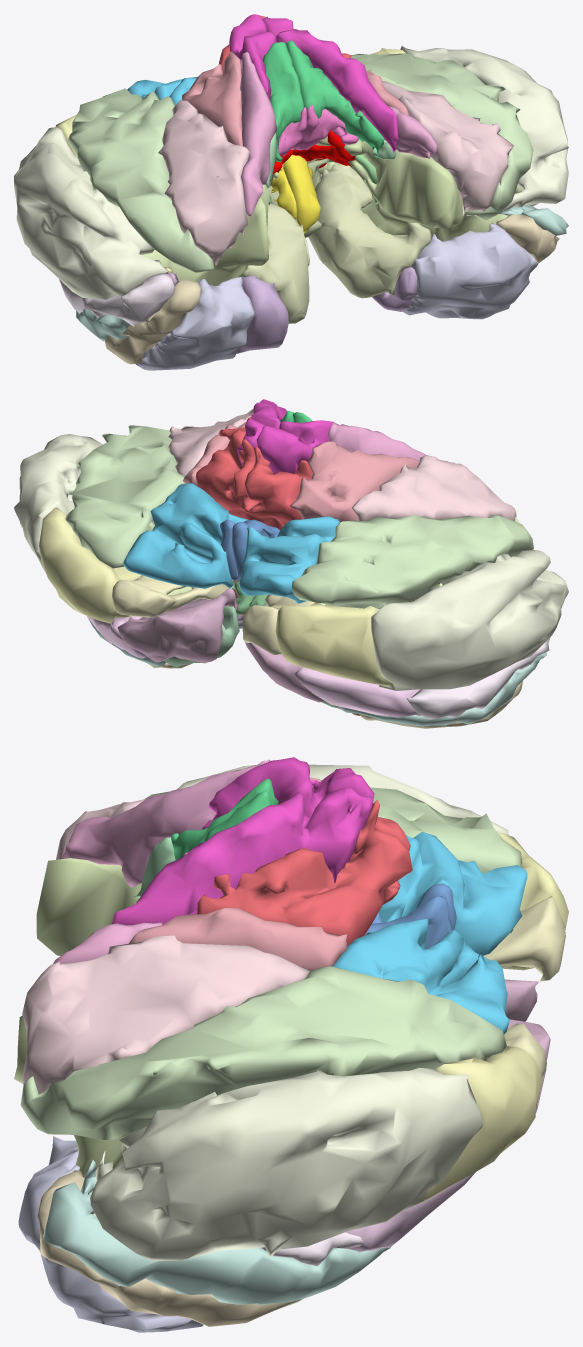
File: cerebellum.lod2.glb
3 views of the same model, one above another, from view 1: azimuth 30°, elevation 25°; view 2: azimuth 150°, elevation 25°; view 3: azimuth 270°, elevation 25° (orthographic). The views are drawn at different scales.
Parts seen in each view (by area): view 1: cerebellar-lobule-viia-crusi-l2-r, cerebellar-lobule-vi-l-r, cerebellar-lobule-v-l-r, cerebellar-lobule-ix-m-l, cerebellar-lobule-viiib-l-l, white-matter-of-hemisphere-of-cerebellum-l, cerebellar-lobule-viia-crusi-l2-l, cerebellar-lobule-vi-l-l, cerebellar-lobule-v-l-l, cerebellar-lobule-viiib-l-r, cerebellar-lobule-iv-v-l, cerebellar-lobule-ix-m-r (+21 smaller); view 2: cerebellar-lobule-viia-crusi-l2-r, cerebellar-lobule-vi-l-r, cerebellar-lobule-vi-l-l, cerebellar-lobule-vi-m-l, cerebellar-lobule-viia-crusi-l1-r, cerebellar-lobule-v-l-r, cerebellar-lobule-v-m-r, cerebellar-lobule-viia-crusi-l1-l, cerebellar-lobule-viia-crusii-m-l, cerebellar-lobule-vi-m-r, cerebellar-lobule-viia-crusi-l2-l, cerebellar-lobule-v-v-l (+17 smaller); view 3: cerebellar-lobule-viia-crusi-l2-l, cerebellar-lobule-vi-l-l, cerebellar-lobule-v-l-l, cerebellar-lobule-viib-l-l, cerebellar-lobule-iv-v-l, cerebellar-lobule-v-v-l, cerebellar-lobule-vi-m-l, cerebellar-lobule-vi-m-r, cerebellar-lobule-iv-m-r, cerebellar-lobule-viia-crusi-l1-l, white-matter-of-hemisphere-of-cerebellum-r, cerebellar-lobule-viiib-l-l (+18 smaller).
Part boxes in pixels (<box>): cerebellar-lobule-viia-crusi-l2-r: <box>14,127,168,300</box>; cerebellar-lobule-vi-l-r: <box>67,88,214,272</box>; cerebellar-lobule-v-l-r: <box>158,100,249,265</box>; cerebellar-lobule-ix-m-l: <box>304,163,431,298</box>; cerebellar-lobule-viiib-l-l: <box>403,223,538,319</box>; white-matter-of-hemisphere-of-cerebellum-l: <box>307,136,521,241</box>; cerebellar-lobule-viia-crusi-l2-l: <box>400,46,568,209</box>; cerebellar-lobule-vi-l-l: <box>351,53,533,220</box>; cerebellar-lobule-v-l-l: <box>382,81,513,215</box>; cerebellar-lobule-viiib-l-r: <box>135,277,254,370</box>; cerebellar-lobule-iv-v-l: <box>261,16,398,152</box>; cerebellar-lobule-ix-m-r: <box>242,203,309,323</box>; cerebellar-lobule-viia-crusi-l2-r: <box>371,550,568,691</box>; cerebellar-lobule-vi-l-r: <box>292,515,533,608</box>; cerebellar-lobule-vi-l-l: <box>65,425,185,568</box>; cerebellar-lobule-vi-m-l: <box>123,483,247,588</box>; cerebellar-lobule-viia-crusi-l1-r: <box>275,583,442,686</box>; cerebellar-lobule-v-l-r: <box>352,455,516,521</box>; cerebellar-lobule-v-m-r: <box>289,441,419,522</box>; cerebellar-lobule-viia-crusi-l1-l: <box>39,507,141,623</box>; cerebellar-lobule-viia-crusii-m-l: <box>117,588,238,662</box>; cerebellar-lobule-vi-m-r: <box>239,516,340,603</box>; cerebellar-lobule-viia-crusi-l2-l: <box>14,434,102,570</box>; cerebellar-lobule-v-v-l: <box>195,417,283,530</box>; cerebellar-lobule-viia-crusi-l2-l: <box>90,1068,483,1260</box>; cerebellar-lobule-vi-l-l: <box>20,966,506,1139</box>; cerebellar-lobule-v-l-l: <box>22,935,309,1094</box>; cerebellar-lobule-viib-l-l: <box>43,1160,391,1304</box>; cerebellar-lobule-iv-v-l: <box>112,787,373,925</box>; cerebellar-lobule-v-v-l: <box>197,800,412,945</box>; cerebellar-lobule-vi-m-l: <box>332,918,509,1034</box>; cerebellar-lobule-vi-m-r: <box>379,831,527,955</box>; cerebellar-lobule-iv-m-r: <box>61,759,270,887</box>; cerebellar-lobule-viia-crusi-l1-l: <box>418,1046,542,1203</box>; white-matter-of-hemisphere-of-cerebellum-r: <box>36,858,141,955</box>; cerebellar-lobule-viiib-l-l: <box>18,1136,203,1332</box>.
Bounding box in the file's own units: 0.1128 × 0.0625 × 0.0702.
